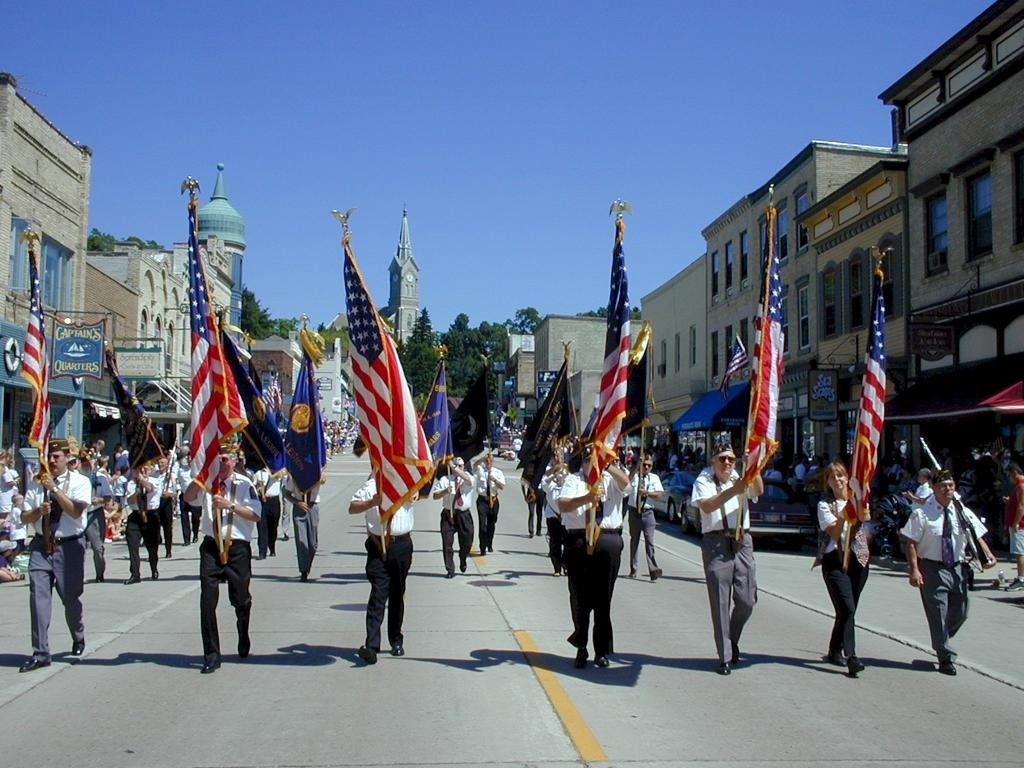human_face: (716, 451, 734, 475), (214, 454, 232, 478), (47, 450, 65, 472), (936, 478, 954, 498), (828, 470, 846, 490), (584, 457, 598, 475), (453, 460, 463, 476), (66, 456, 78, 468), (641, 458, 651, 472), (1006, 470, 1016, 484), (138, 463, 148, 477), (611, 455, 619, 467), (484, 454, 492, 466), (157, 458, 165, 470), (999, 455, 1007, 466), (917, 472, 925, 482), (992, 481, 1000, 489), (112, 508, 118, 518), (903, 468, 909, 476), (81, 451, 87, 459), (15, 497, 23, 503), (106, 499, 112, 507), (794, 455, 800, 463), (812, 456, 816, 462), (116, 445, 120, 451), (98, 442, 102, 448)
